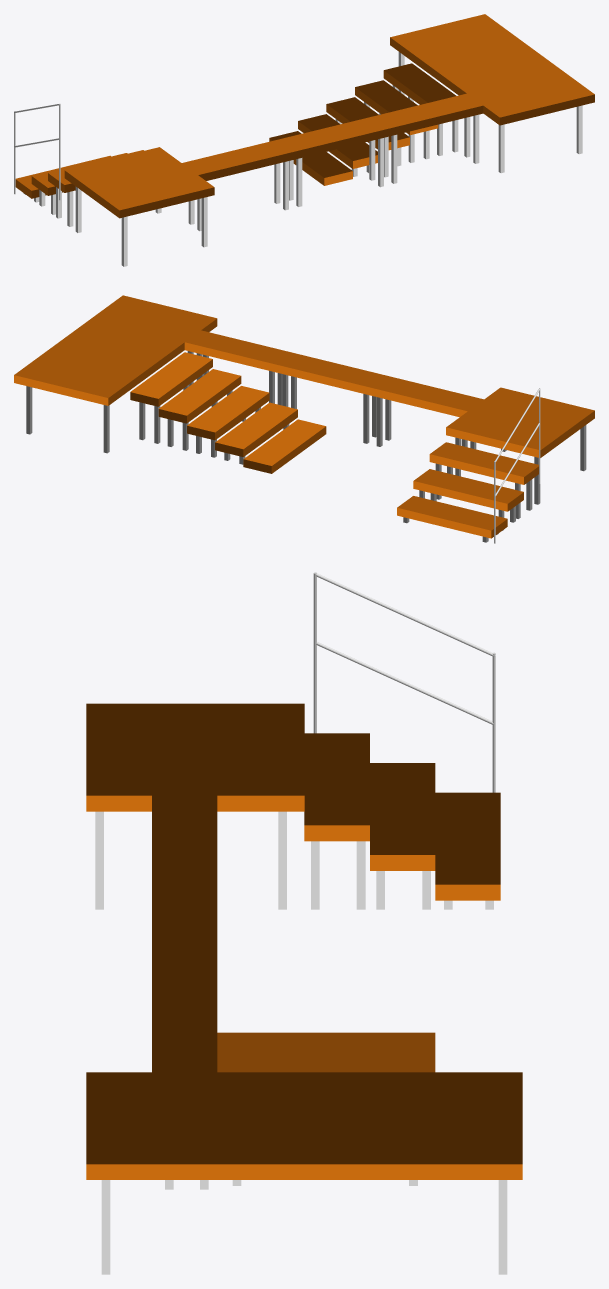
The model's file is staircases_koroibot_hr.dae.
3 views of the same model, one above another, from view 1: azimuth 30°, elevation 25°; view 2: azimuth 150°, elevation 25°; view 3: azimuth 270°, elevation 25° (orthographic). The views are drawn at different scales.
Visible parts, largest first — view 1: node (×15); view 2: node (×15); view 3: node (×17).
Boxes of the visible parts, x1,y1,x2,y2 form: node (×15): (15, 14, 594, 266); node (×15): (14, 295, 594, 538); node (×17): (86, 703, 522, 1274).
Bounding box in the file's own units: 5.03 × 2 × 1.25.
